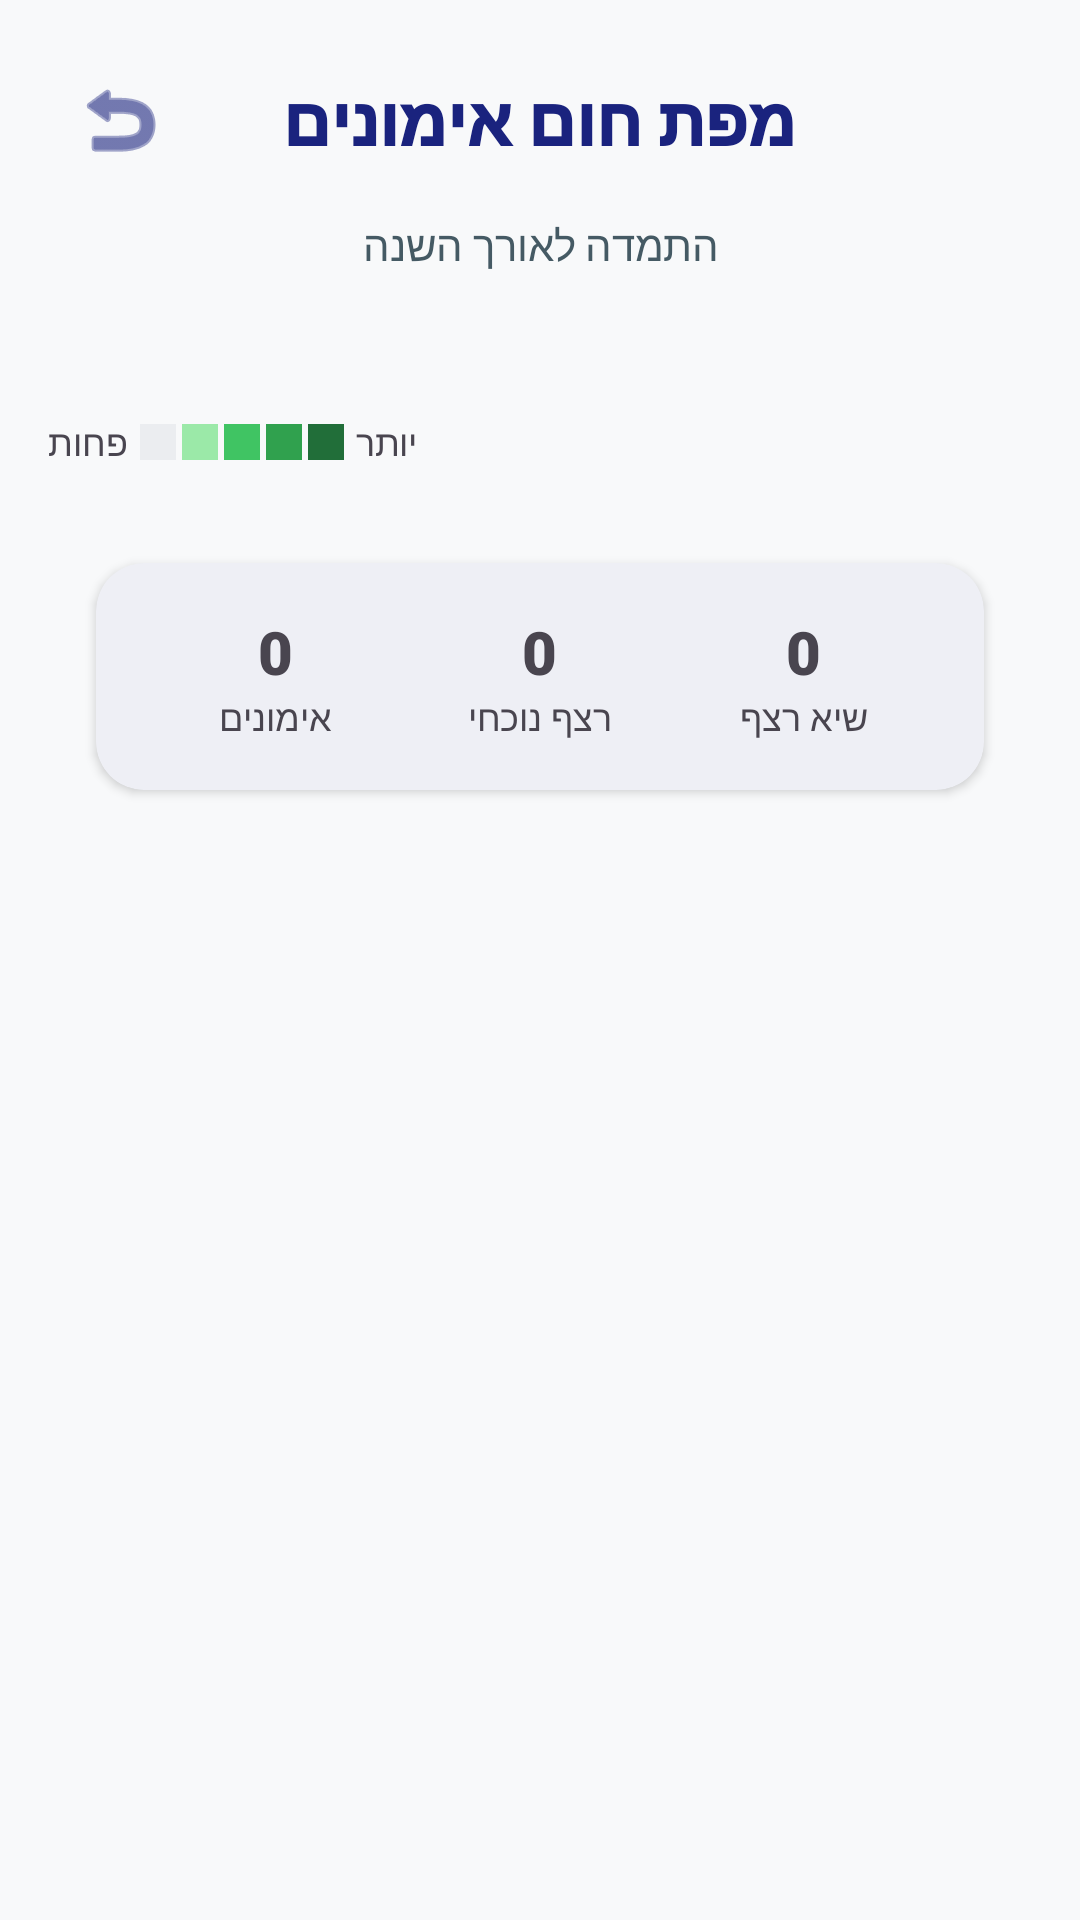

Where icons sit on this 1080w x 1920h app screen, as (x1, y1, x2, y2):
חזרה: (87, 89, 156, 152)
